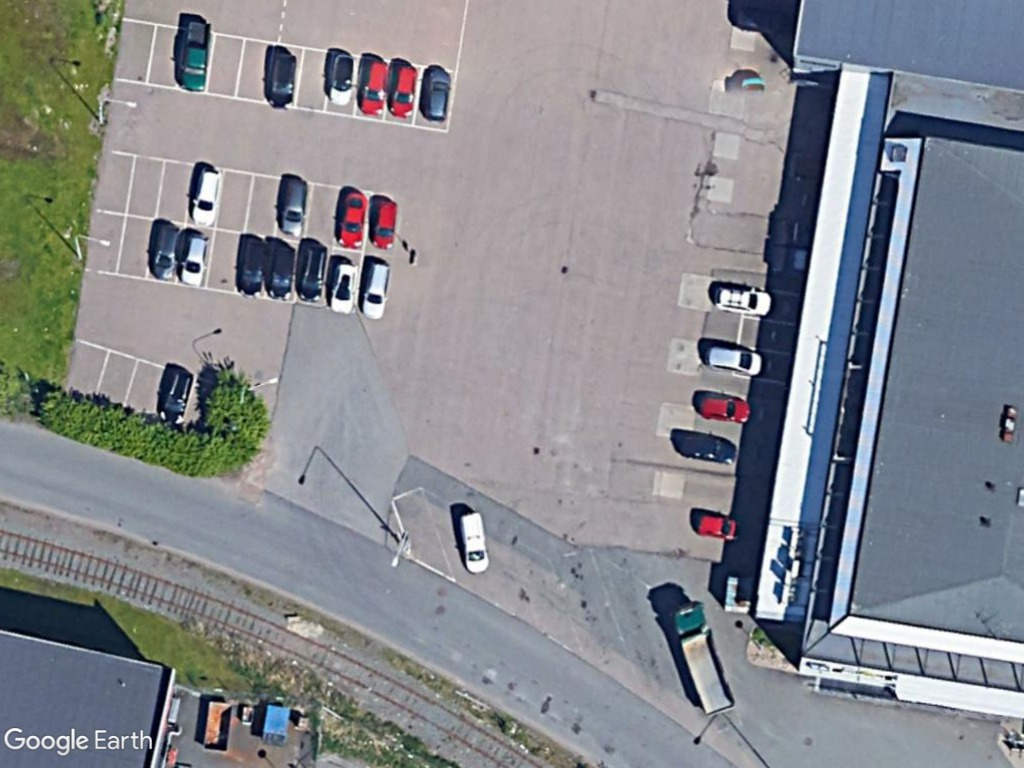car: (149, 362, 200, 431), (707, 277, 780, 322), (262, 42, 302, 117), (183, 161, 226, 229), (273, 170, 312, 243), (355, 53, 395, 124), (701, 339, 771, 378), (321, 44, 359, 113), (420, 60, 457, 130), (689, 391, 757, 429), (357, 256, 397, 320), (332, 187, 372, 250), (384, 57, 421, 123), (686, 505, 747, 545), (146, 217, 180, 280), (176, 227, 212, 286), (370, 193, 404, 255)
other: (174, 10, 217, 98)
truck: (664, 596, 740, 727)
van: (451, 504, 494, 577)
